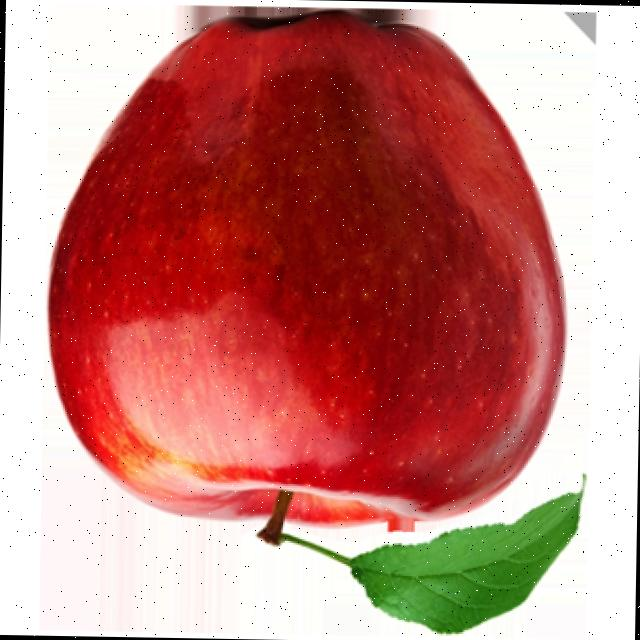Apel: (42, 6, 572, 548)
